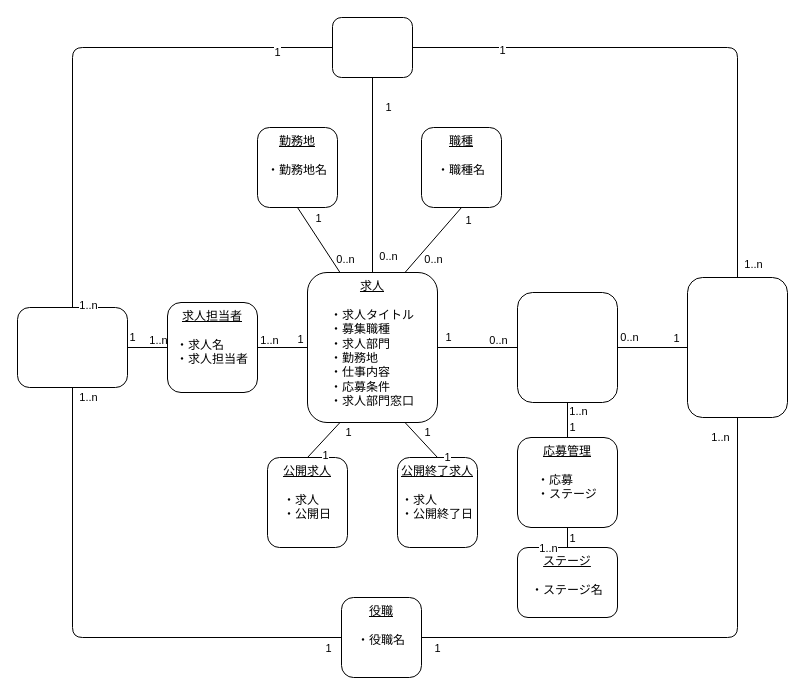
Some shapes in this 805 by 695 pixel diagram are drawn without their labels. The centre of each missing label's shape, as x and y in pixels:
"応募 ・求人 ・応募者 ・応募日 ・志望動機 ・自己PR" belongs at pixel 567 347.
"担当者 ・求人部門 ・求人担当者名 ・役職" belongs at pixel 72 347.
"求職者 ・求職者名 ・所属 ・役職 ・Email ・Pass ・資格 ・スキル" belongs at pixel 737 347.
"部門 ・部門名" belongs at pixel 372 47.
